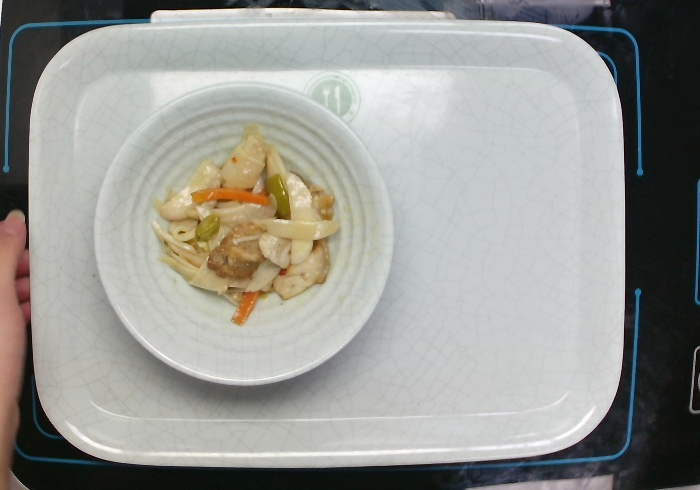JYsf-Xiao_Tang_Wan: (92, 81, 393, 387)
